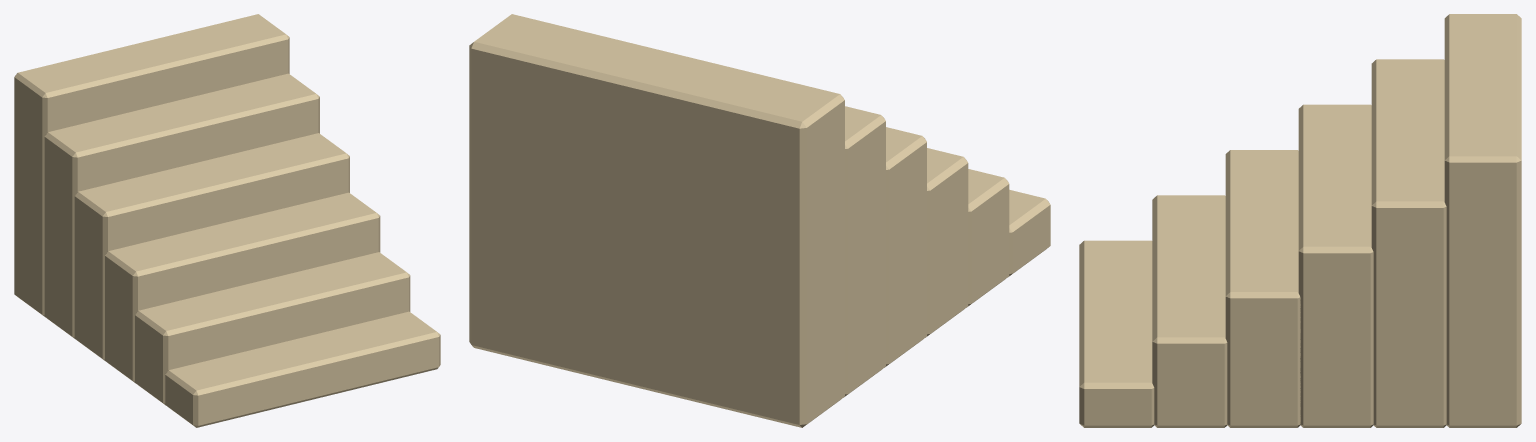
The model's file is stone_stairs.glb.
3 views of the same model, side by side, from view 1: azimuth 30°, elevation 25°; view 2: azimuth 150°, elevation 25°; view 3: azimuth 270°, elevation 25° (orthographic). The views are drawn at different scales.
Parts seen in each view (by area): view 1: Step.005, Step.004, Step.003, Step.002, Step.001, Step; view 2: Step.005, Step.004, Step.003, Step.002, Step.001, Step; view 3: Step.005, Step.004, Step.003, Step.002, Step.001, Step.
Boxes of the visible parts, x1,y1,x2,y2 form: Step.005: (14,14,289,316); Step.004: (44,73,319,338); Step.003: (74,133,349,360); Step.002: (105,192,380,383); Step.001: (135,252,410,405); Step: (165,311,440,427); Step.005: (469,14,844,427); Step.004: (844,106,885,396); Step.003: (885,127,926,366); Step.002: (927,148,968,336); Step.001: (968,169,1009,306); Step: (1009,189,1050,276); Step.005: (1444,14,1521,427); Step.004: (1371,59,1446,427); Step.003: (1298,104,1373,427); Step.002: (1225,150,1300,427); Step.001: (1152,195,1227,427); Step: (1079,240,1154,427).
Bounding box in the file's own units: 1.8 × 1.56 × 2.3.
